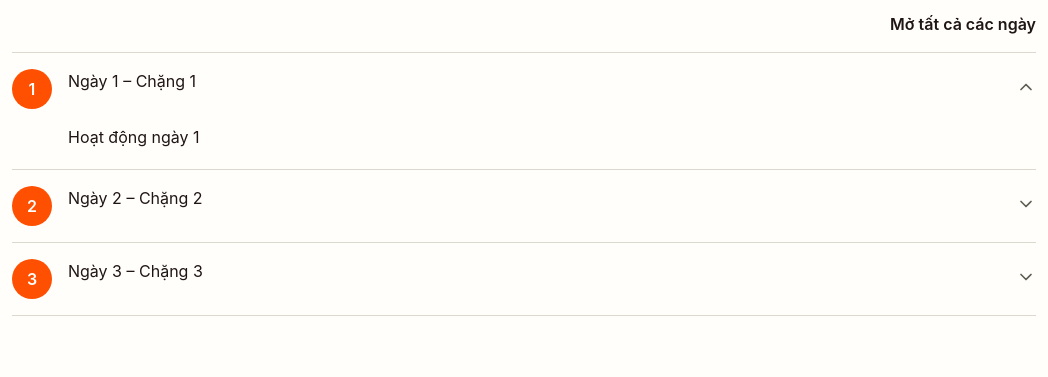
Test: ItineraryAccordion › bấm vào một ngày thì mở ra, bấm lần nữa thì thu lại
Click the button "2 Ngày 2 – Chặng 2": x=32, y=206 [12,170,1036,242]
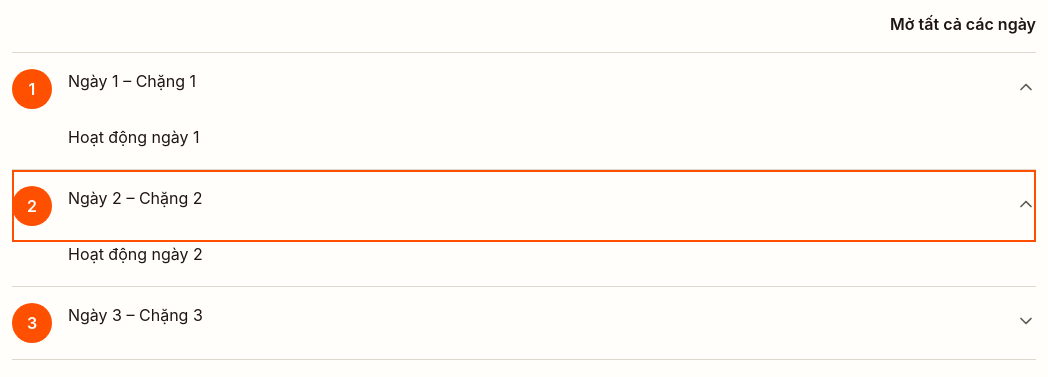
Result: the button "2 Ngày 2 – Chặng 2" is expanded
Click the button "2 Ngày 2 – Chặng 2": x=32, y=206 [12,170,1036,242]
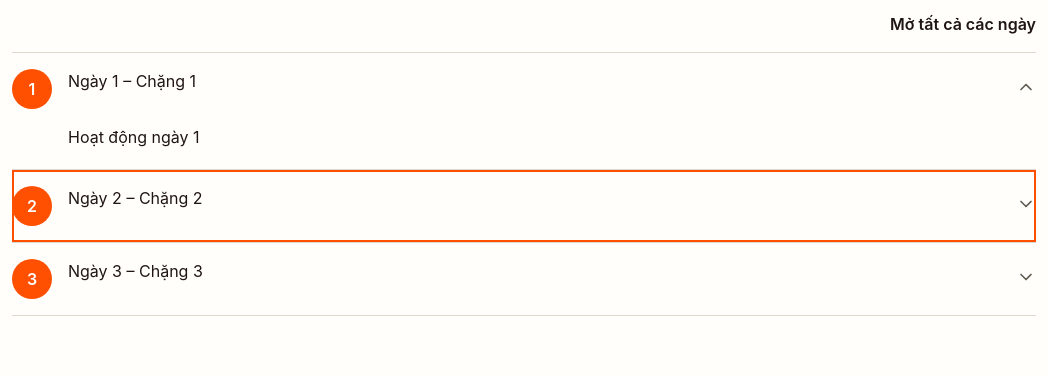
Result: the button "2 Ngày 2 – Chặng 2" is collapsed at [12,170,1036,242]
